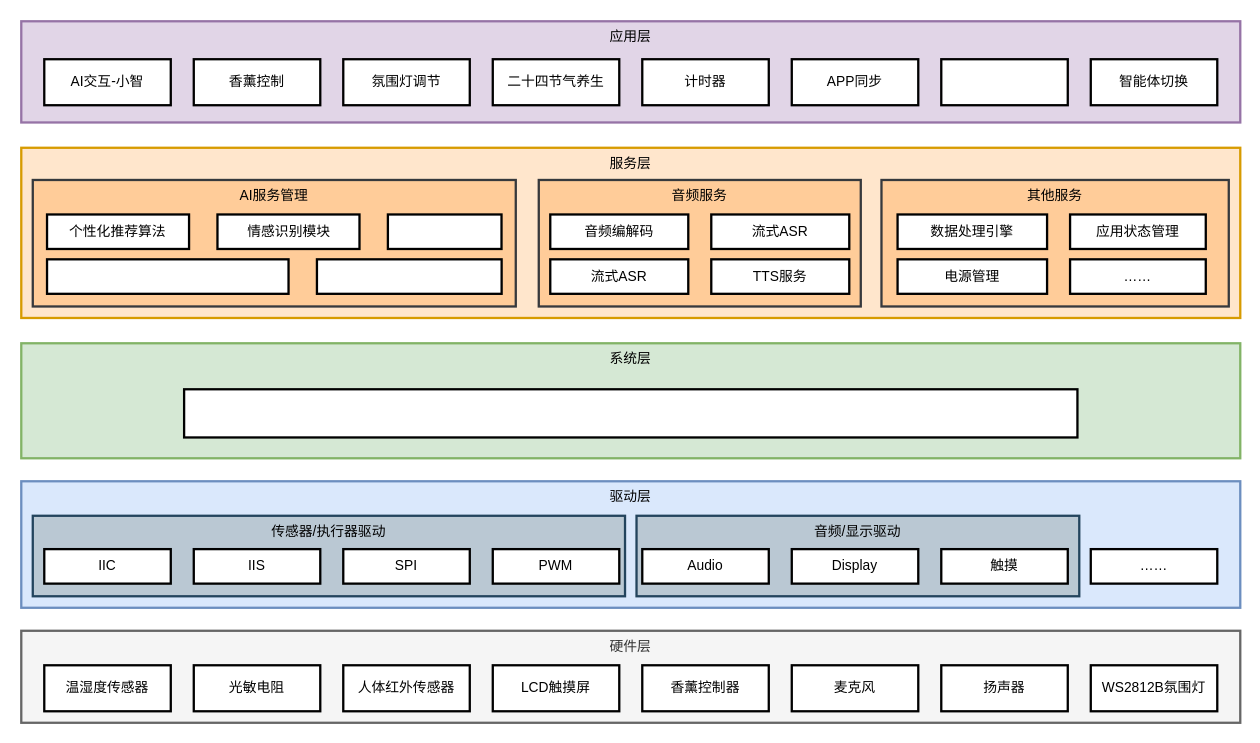
This 1260x743 diagram has some shape labels left out. The shapes that lost their labels are listed below. From the top down, each one's centre as x and y in pixels, then its label:
[1004,81]: 环境监测
[444,231]: LLM集成
[167,276]: 二十四节气养生知识库
[408,276]: MCP协议
[630,413]: FreeRTOS实时系统
